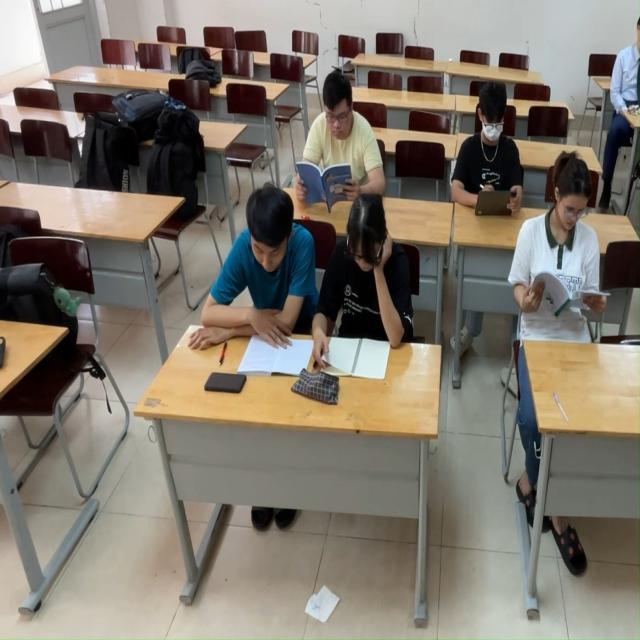read: (525, 152, 610, 377), (226, 194, 315, 371), (331, 196, 408, 387), (456, 86, 526, 224), (305, 76, 358, 213)
